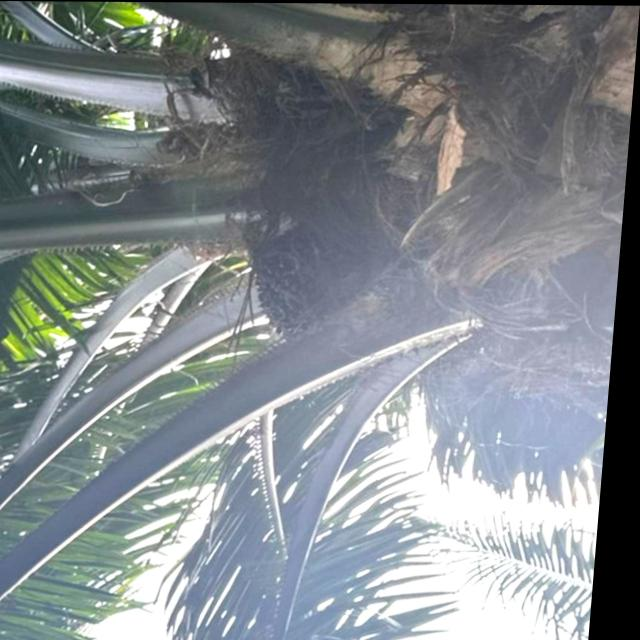unripe: (248, 217, 411, 347)
